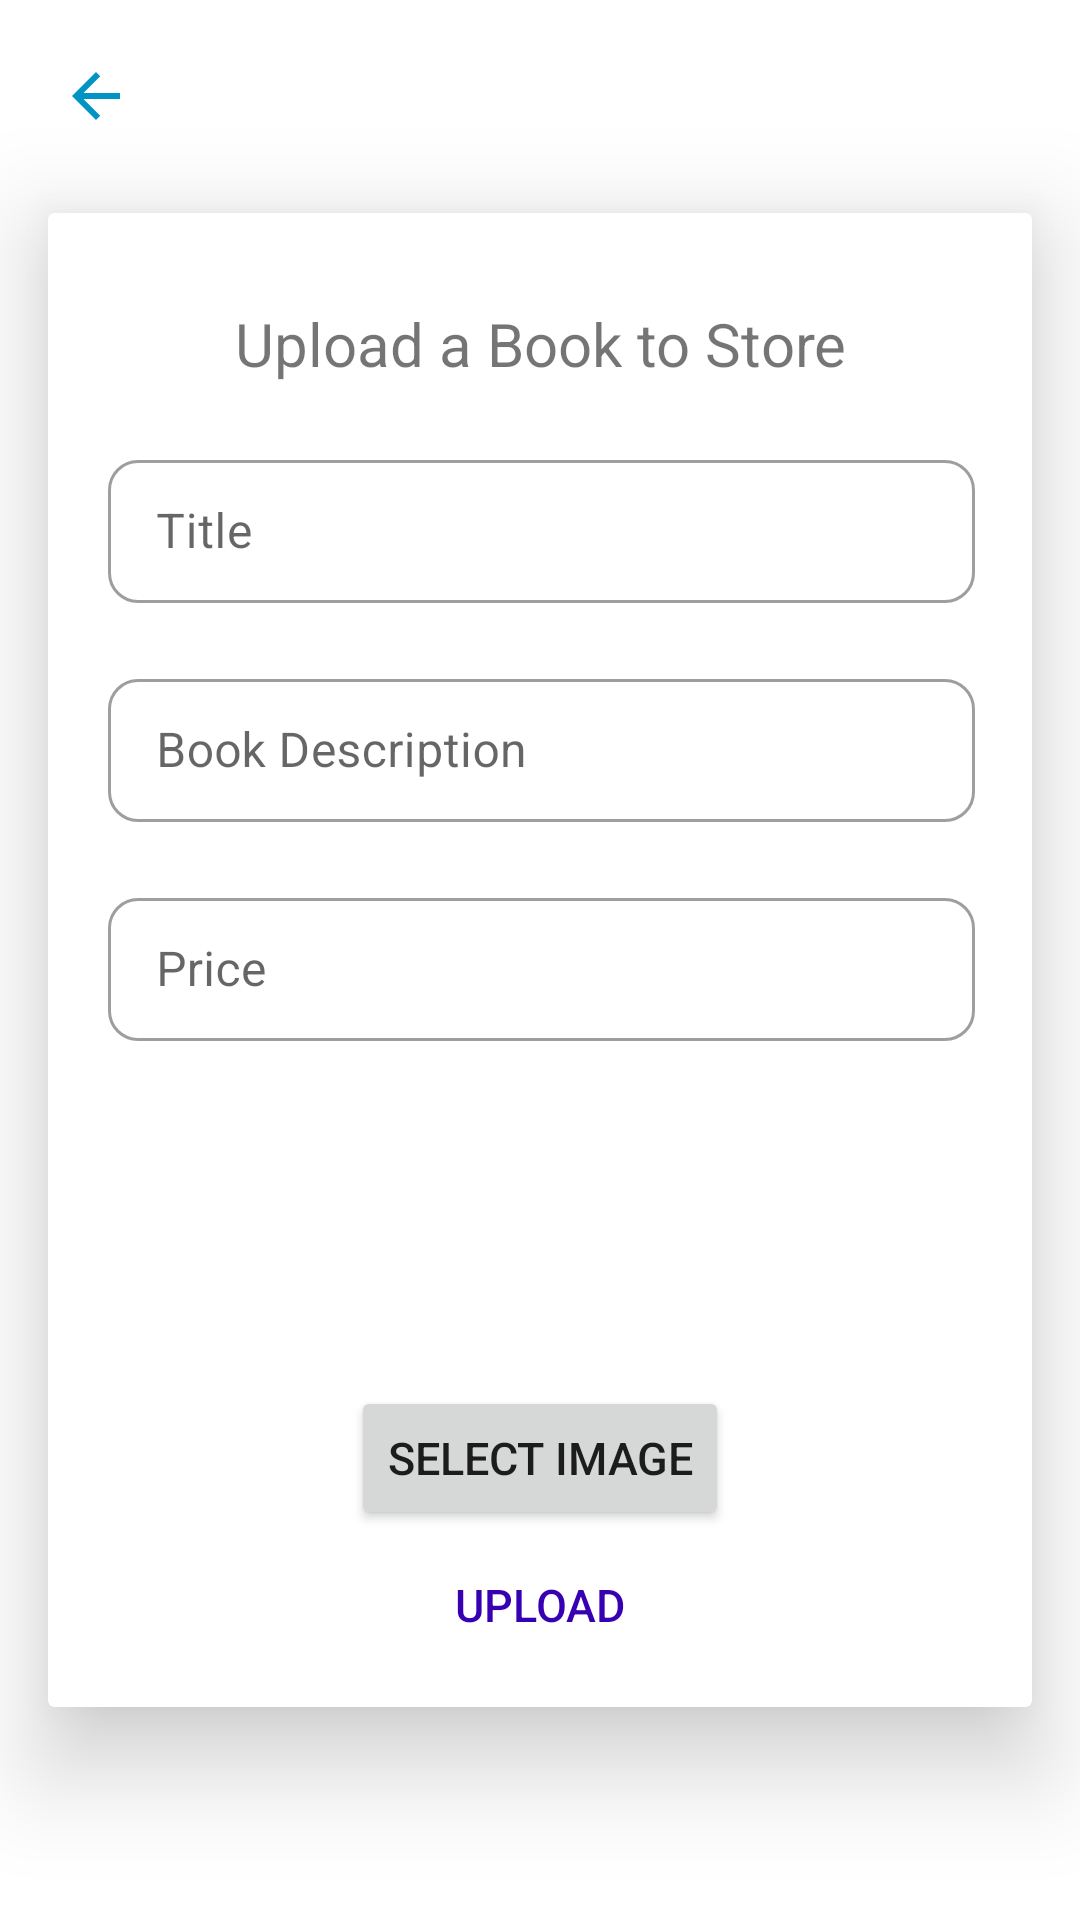

Named icons in this screenshot (1080px×1920px) and their bounding boxes, (x1, y1, x2, y2):
back pressed: (72, 72, 120, 120)
